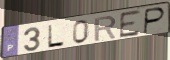0: (71, 18, 91, 45)
3: (23, 26, 41, 53)
E: (119, 8, 142, 40)
L: (47, 24, 66, 49)
P: (142, 6, 167, 36)
R: (93, 15, 118, 43)
